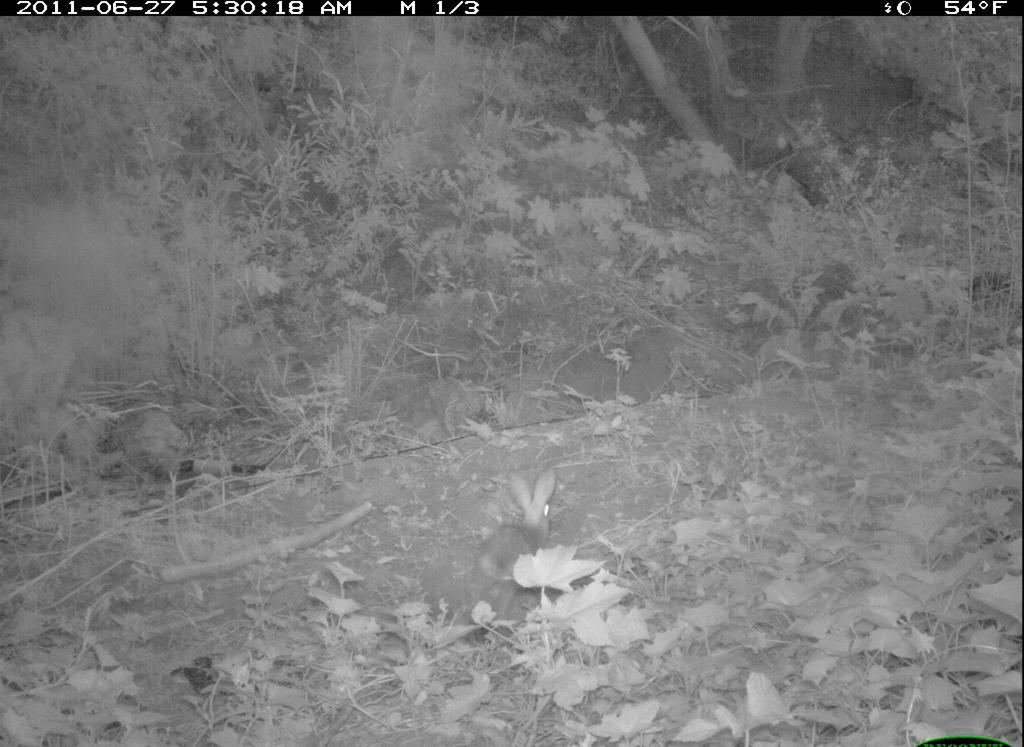rabbit: (475, 468, 566, 598)
